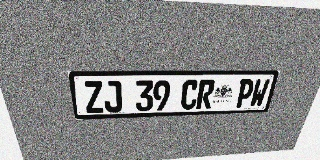3: (136, 80, 153, 111)
9: (153, 80, 171, 111)
C: (180, 80, 199, 110)
J: (103, 81, 122, 113)
P: (234, 79, 256, 108)
R: (196, 80, 216, 109)
W: (249, 79, 270, 107)
Z: (83, 81, 105, 113)
